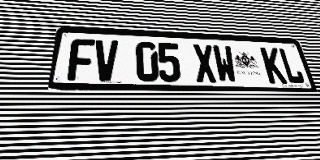0: (136, 41, 159, 82)
5: (157, 42, 182, 82)
F: (67, 38, 95, 81)
K: (260, 47, 288, 84)
L: (278, 48, 306, 84)
V: (93, 40, 118, 81)
W: (212, 45, 238, 83)
X: (192, 44, 218, 83)
